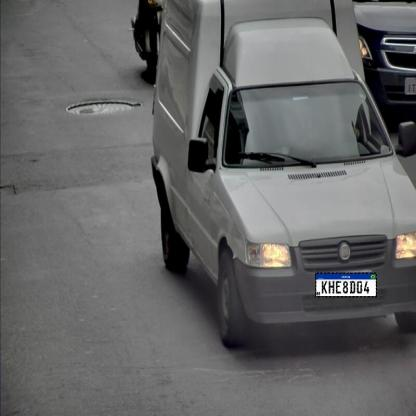PlacaM: (315, 272, 377, 298)
